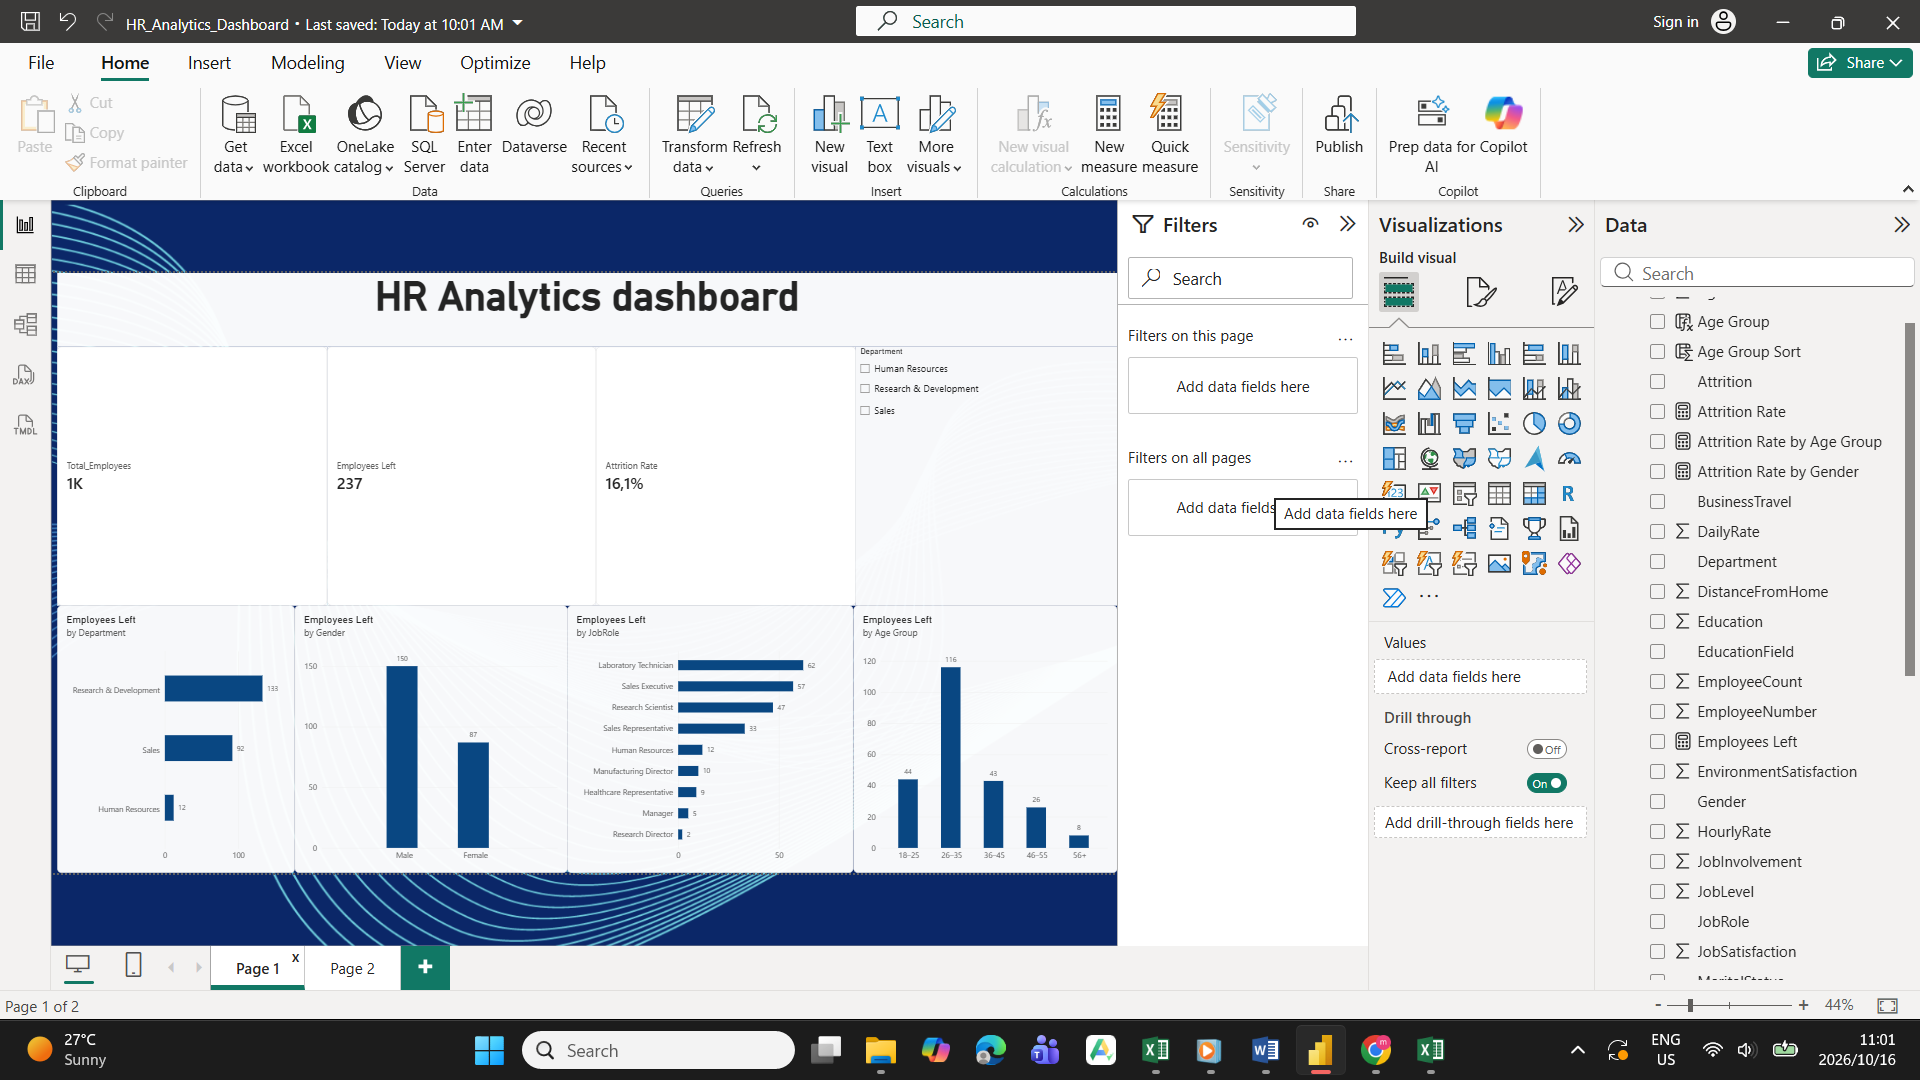

What the dashboard file says about the page in this screenshot:
{"tool":"powerbi","page":{"name":"Page 1","canvas":[1920,1080],"ordinal":0},"visuals":[{"type":"cardVisual","fields":{"Data":["Employees.Total_Employees"]},"box":[11.3,0,486.3,513.3],"z":0},{"type":"cardVisual","fields":{"Data":["Employees.Employees Left"]},"box":[497.6,0,484.1,513.3],"z":1000},{"type":"cardVisual","fields":{"Data":["Employees.Attrition Rate"]},"box":[981.6,0,468.3,513.3],"z":2000},{"type":"clusteredBarChart","fields":{"Category":["Employees.Department"],"Y":["Employees.Employees Left"]},"box":[11.3,598.9,427.8,481.8],"z":3000},{"type":"clusteredColumnChart","fields":{"Category":["Employees.Gender"],"Y":["Employees.Employees Left"]},"box":[439,598.9,490.8,481.8],"z":4000},{"type":"clusteredBarChart","fields":{"Category":["Employees.JobRole"],"Y":["Employees.Employees Left"]},"box":[929.8,598.9,515.6,481.8],"z":5000},{"type":"slicer","fields":{"Values":["Employees.Department"]},"box":[1449.9,0,470.5,513.3],"z":6000},{"type":"clusteredColumnChart","fields":{"Category":["Employees.Age Group"],"Y":["Employees.Employees Left"]},"box":[1450,599,470,481],"z":7000}]}

Visuals, with their boxes on the page's 1920x1080 design canvas (x1, y1, x2, y2). These are canvas units, not pixel positions in the 1920x1080 screenshot, which may show the page scaled, cropped or inside an application window:
cardVisual - Employees.Total_Employees: 11,0,498,513
cardVisual - Employees.Employees Left: 498,0,982,513
cardVisual - Employees.Attrition Rate: 982,0,1450,513
clusteredBarChart - Employees.Department x Employees.Employees Left: 11,599,439,1081
clusteredColumnChart - Employees.Gender x Employees.Employees Left: 439,599,930,1081
clusteredBarChart - Employees.JobRole x Employees.Employees Left: 930,599,1445,1081
slicer - Employees.Department: 1450,0,1920,513
clusteredColumnChart - Employees.Age Group x Employees.Employees Left: 1450,599,1920,1080
